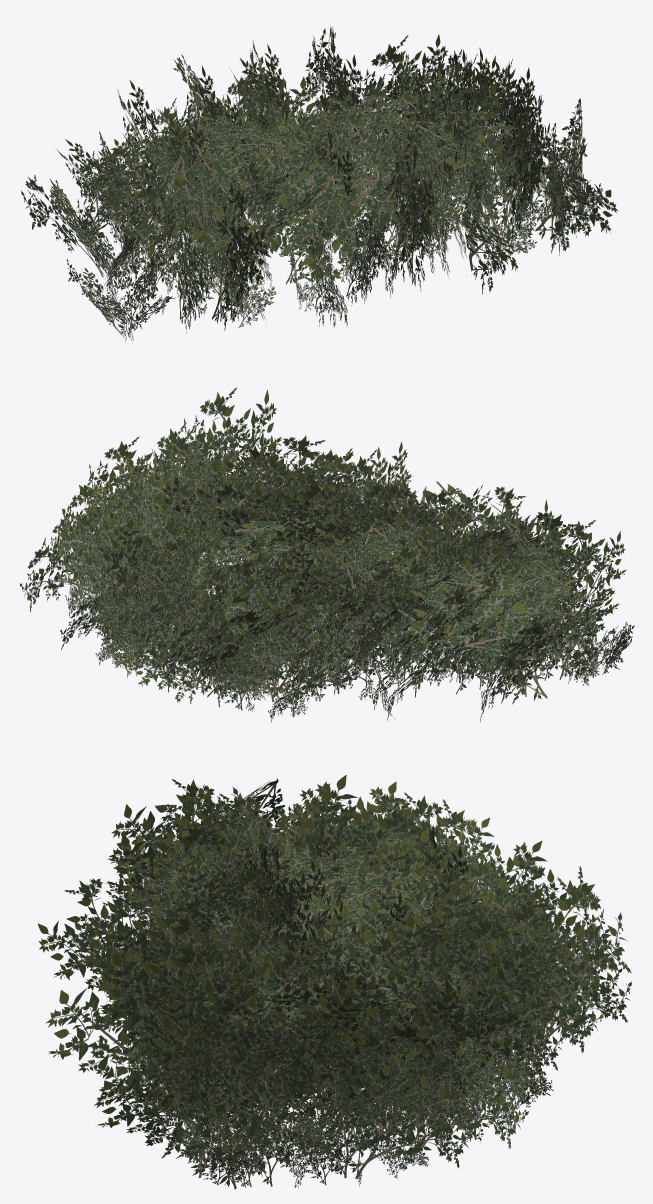
File: Shrub2.fbx
3 views of the same model, one above another, from view 1: azimuth 30°, elevation 25°; view 2: azimuth 150°, elevation 25°; view 3: azimuth 270°, elevation 25° (orthographic). The views are drawn at different scales.
Parts seen in each view (by area): view 1: Shrub2; view 2: Shrub2; view 3: Shrub2.
Boxes of the visible parts, box(x1,y1,x2,y2) form: Shrub2: box(21, 26, 618, 343); Shrub2: box(19, 387, 634, 722); Shrub2: box(37, 775, 631, 1189).
Bounding box in the file's own units: 1.85 × 0.6737 × 1.59.
